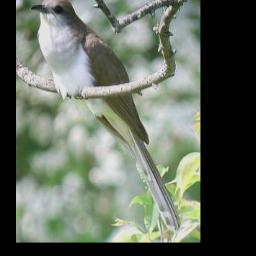Cuckoo: (30, 0, 185, 233)
